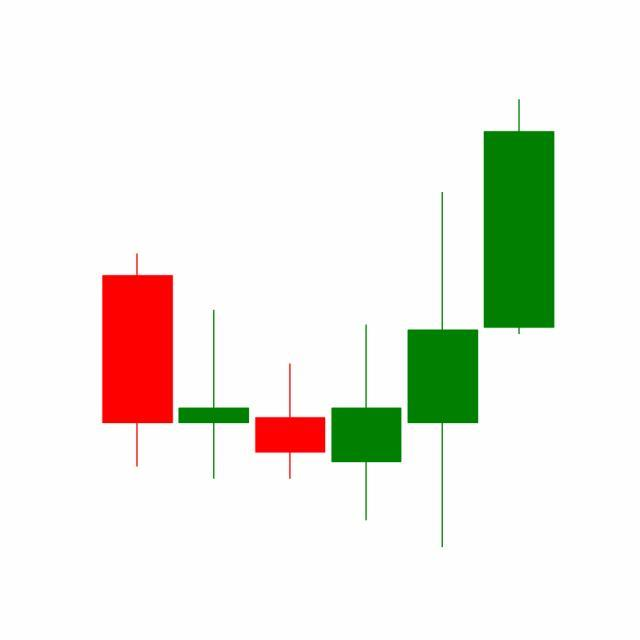Three Outside Up-Down: (252, 188, 482, 548)
